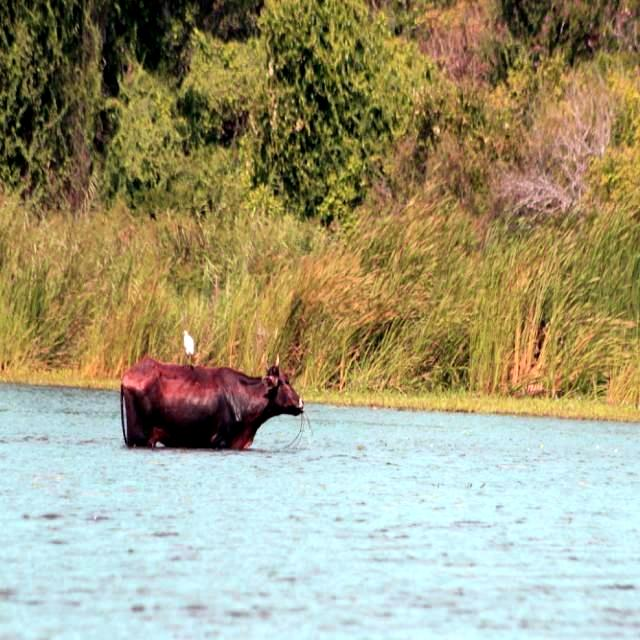COW: (121, 359, 304, 448)
